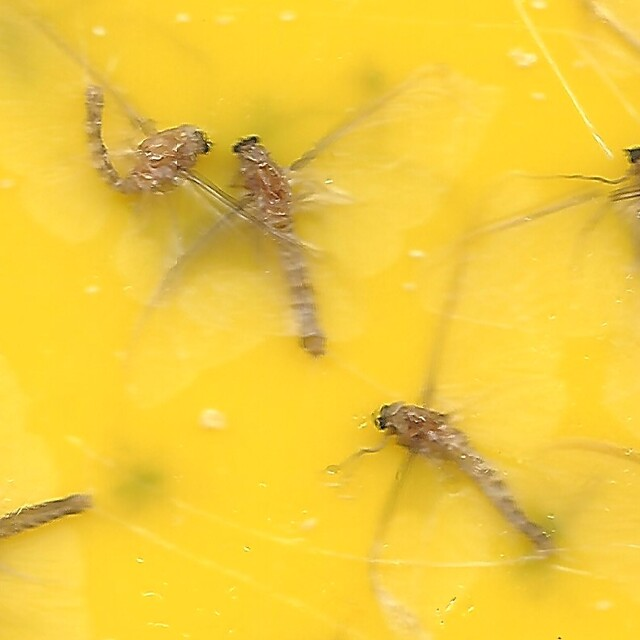Ephemeroptera: (372, 401, 559, 557), (234, 134, 328, 355), (81, 83, 214, 195)
